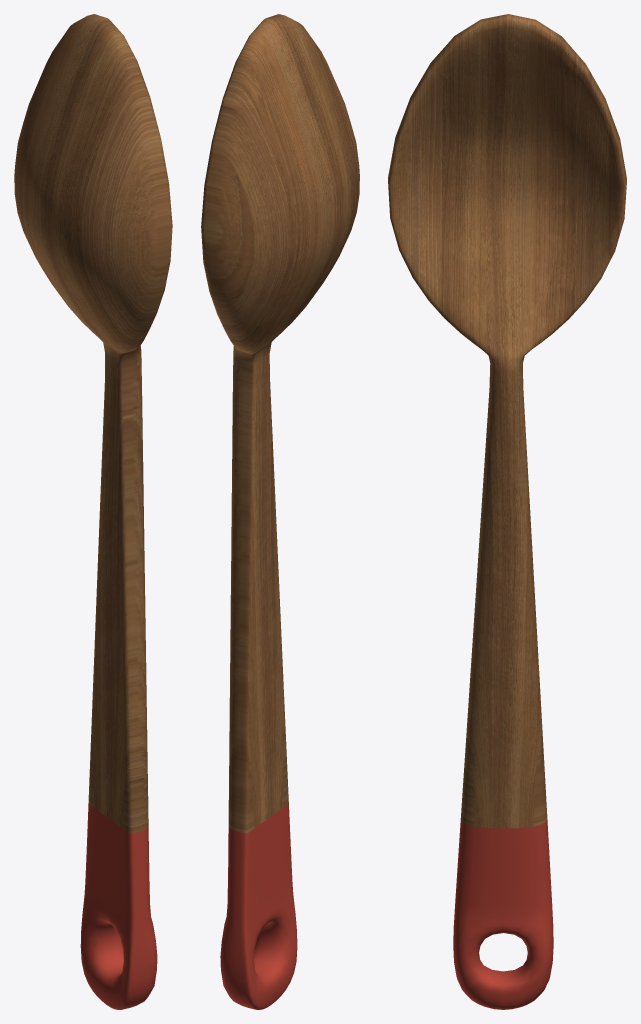
File: kitchen02.gltf
3 views of the same model, side by side, from view 1: azimuth 30°, elevation 25°; view 2: azimuth 150°, elevation 25°; view 3: azimuth 270°, elevation 25° (orthographic).
Parts seen in each view (by area): view 1: 06.001; view 2: 06.001; view 3: 06.001.
Part boxes in pixels (left/top/right/bottom): 06.001: left=14, top=14, right=172, bottom=1009; 06.001: left=201, top=14, right=359, bottom=1009; 06.001: left=388, top=14, right=626, bottom=1009.
Bounding box in the file's own units: 0.0346 × 0.3296 × 0.0725.
2 materials, 1 textured.
